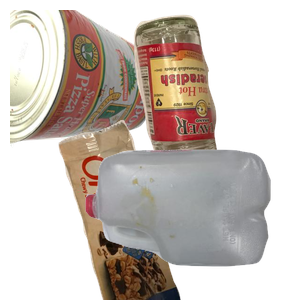glass: (131, 12, 300, 170)
metal: (10, 10, 159, 152)
plastic: (83, 147, 300, 300)
trash: (56, 120, 229, 300)
